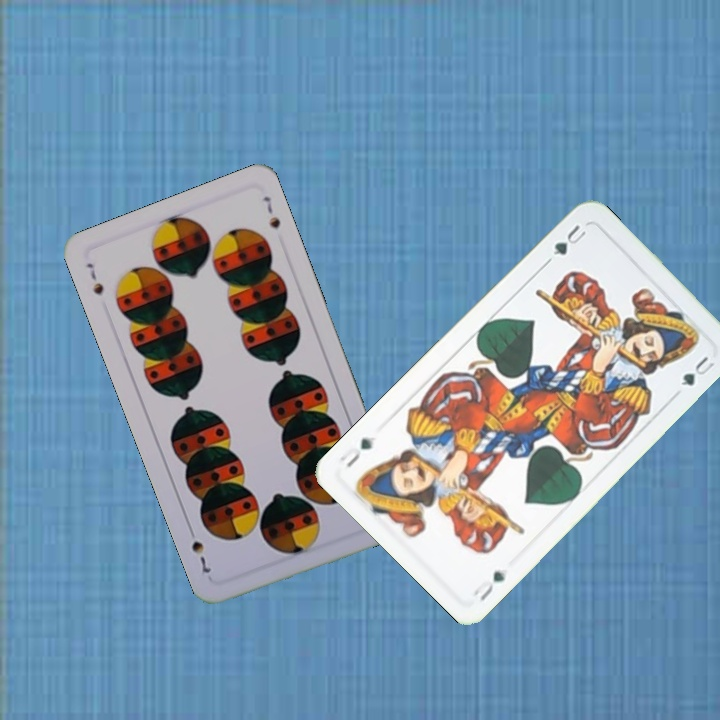GU: (469, 564, 510, 604), (548, 220, 589, 258)
S7: (82, 258, 106, 298)
